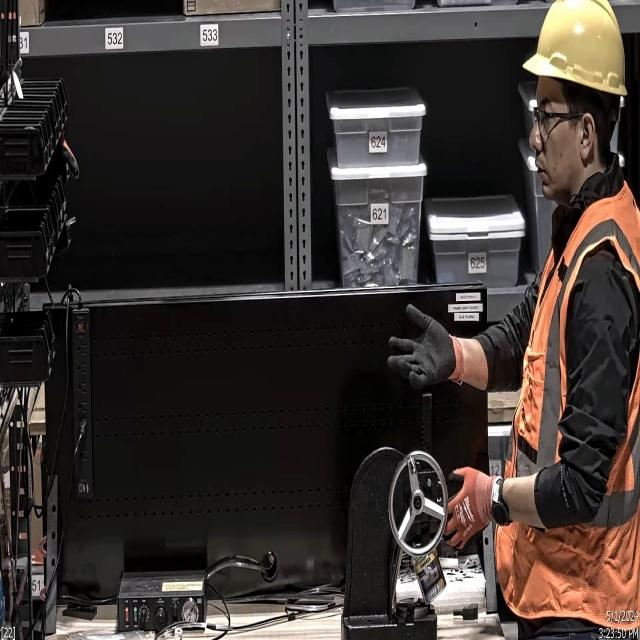construction-gloves: (384, 300, 467, 396), (438, 463, 500, 554)
